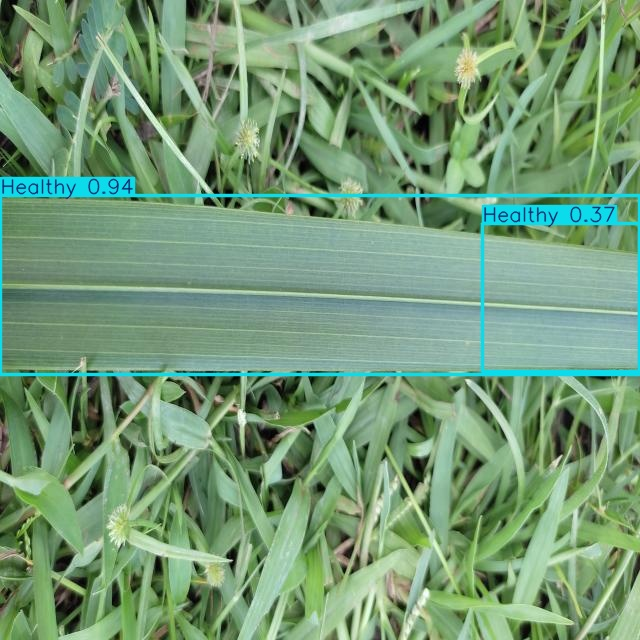Healthy: (0, 195, 640, 374), (483, 224, 640, 371)
